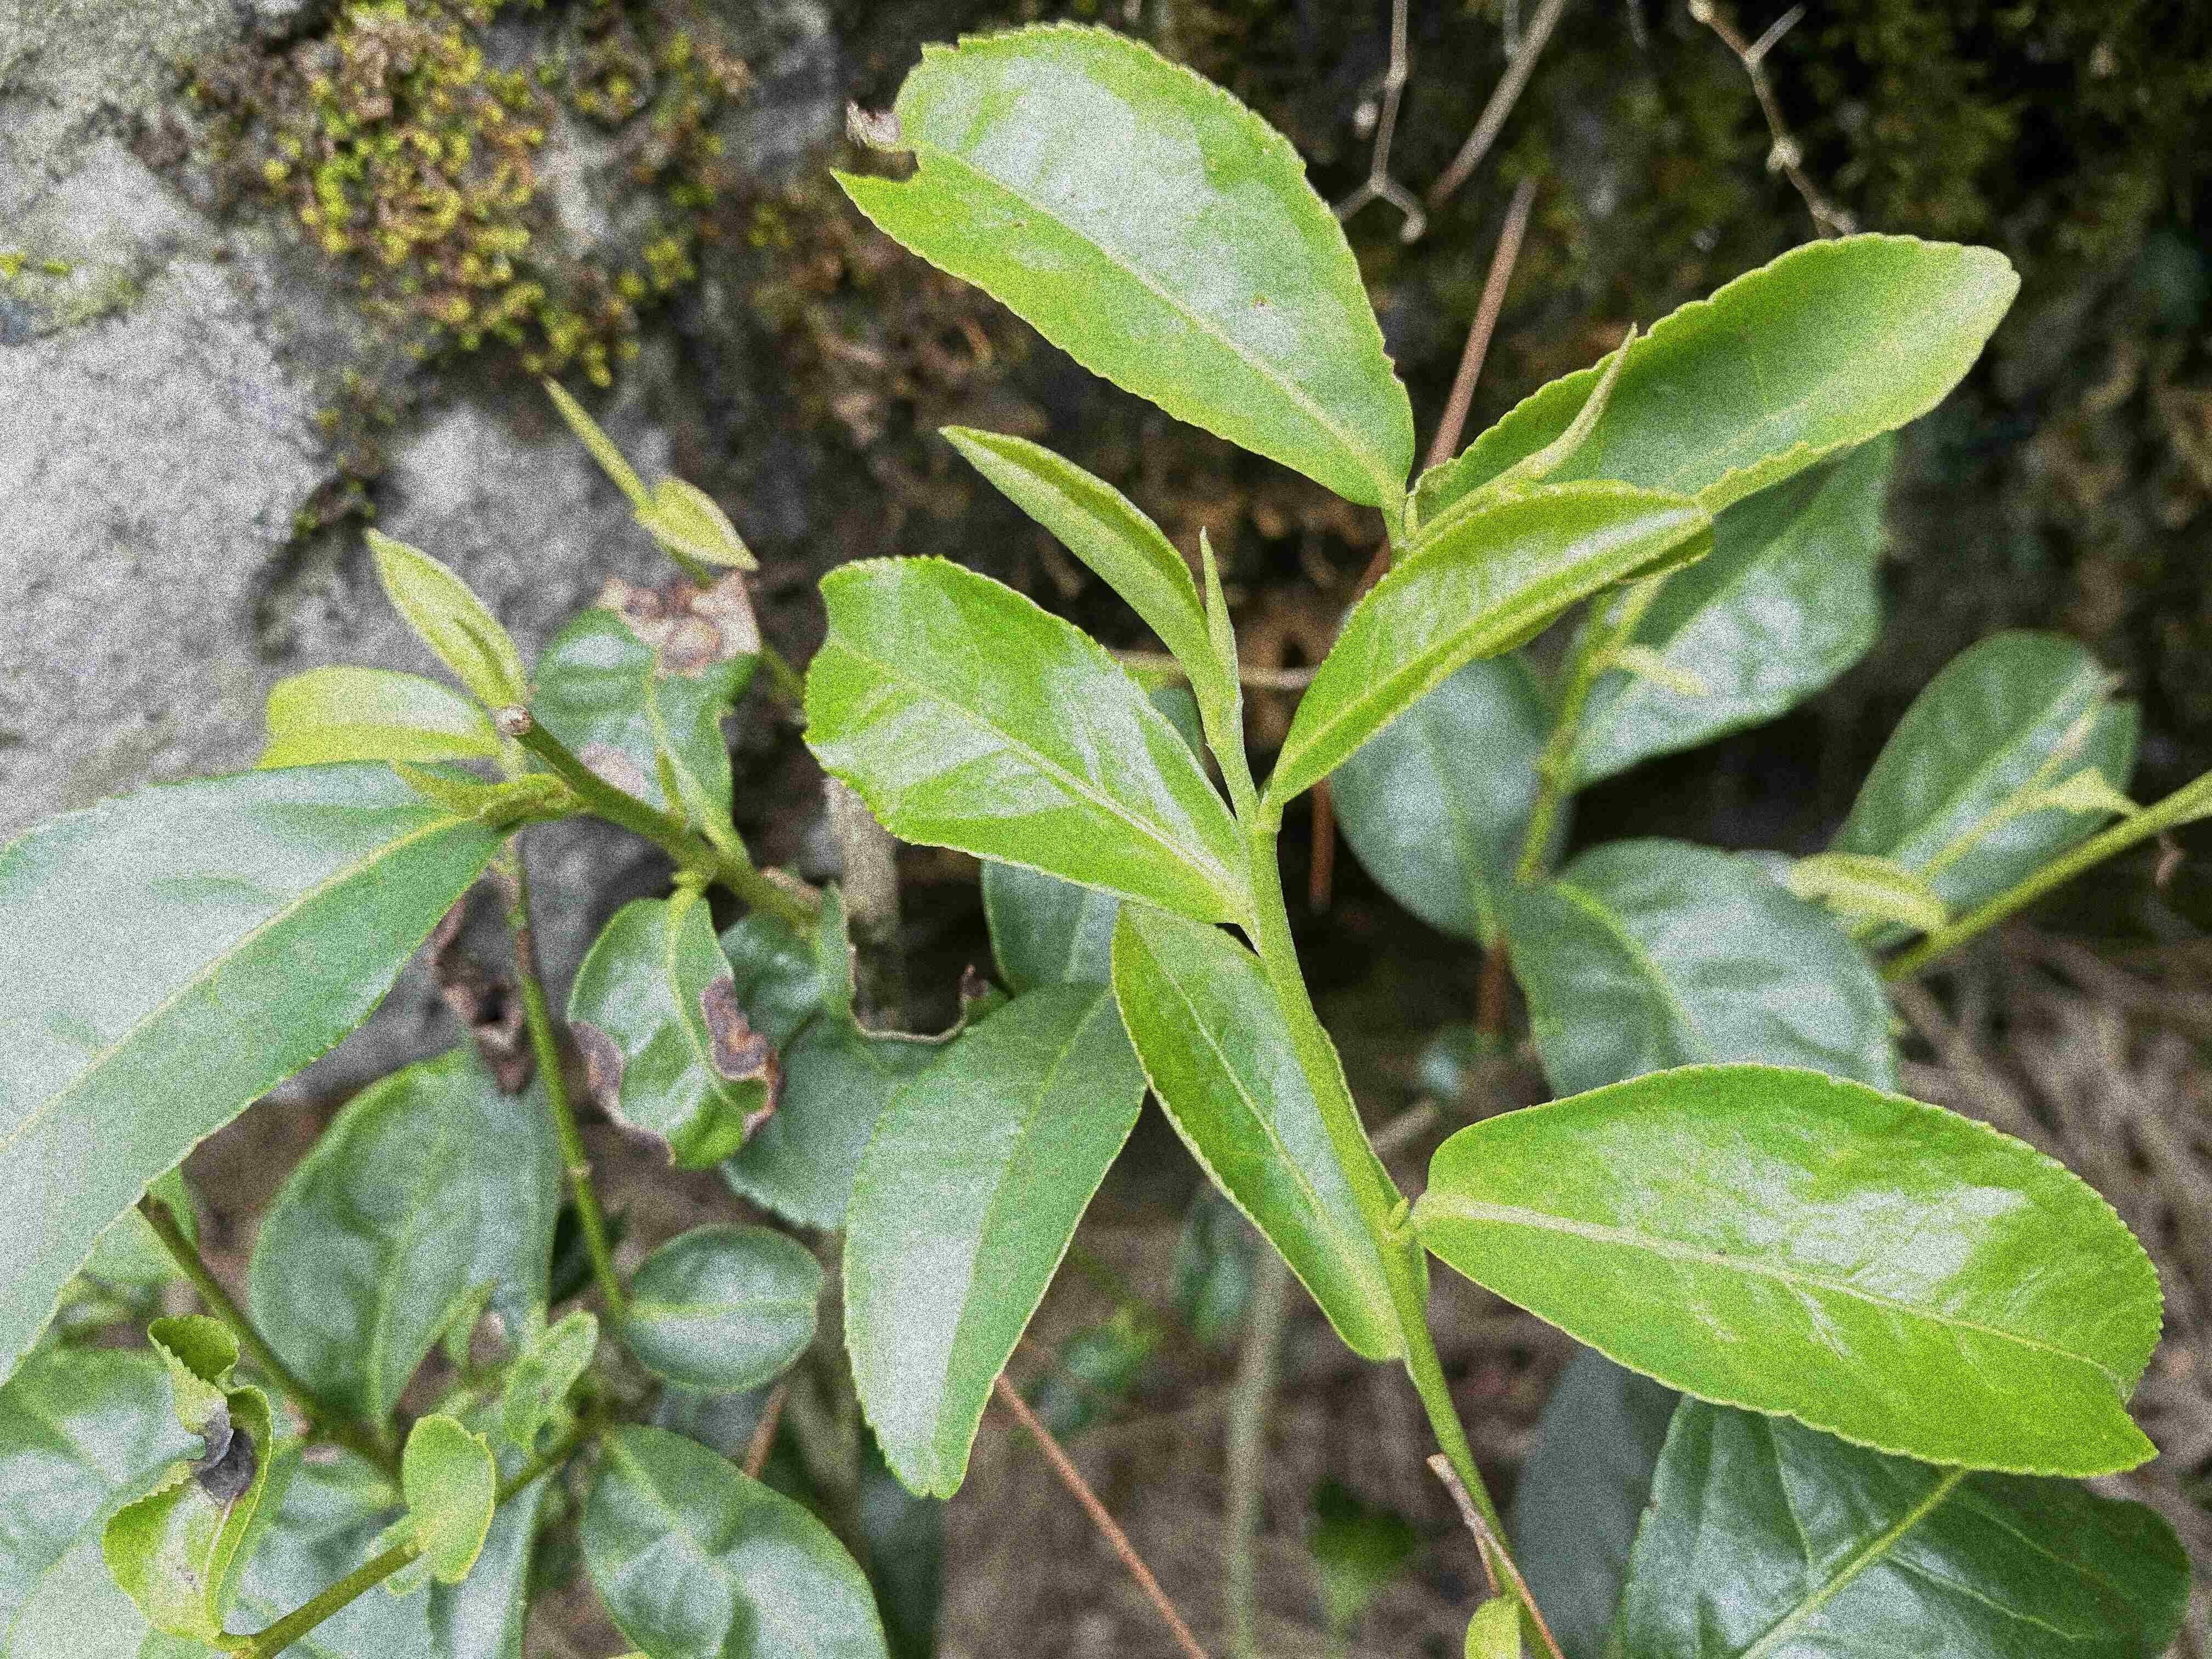healthy: (2, 762, 505, 1394), (1425, 1061, 2165, 1478), (799, 556, 1249, 924), (1268, 481, 1714, 802)
tanju_high: (563, 892, 787, 1173), (528, 568, 761, 828), (99, 1314, 275, 1645)
